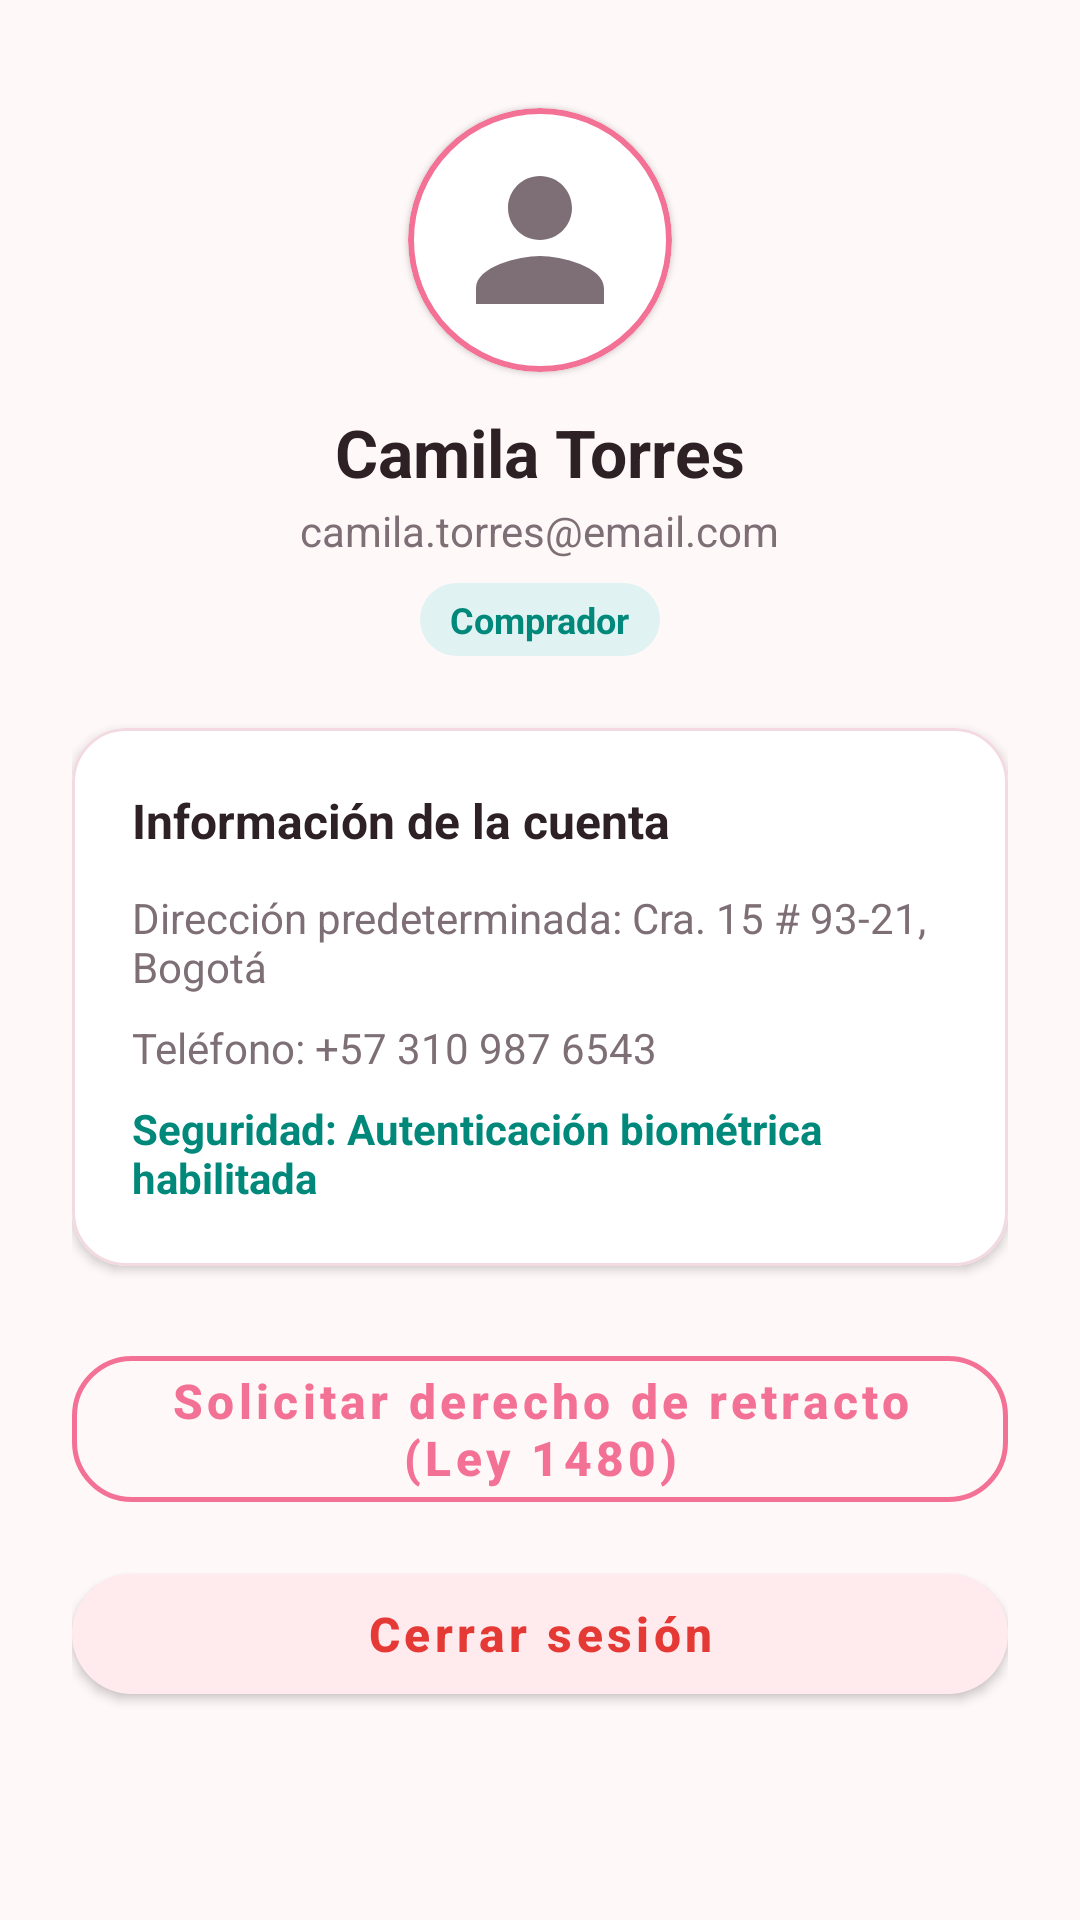

Locate icon controls on the screen. Image size 1080 × 1920, boxes as (x1, y1, x2, y2).
Foto de perfil: (408, 108, 672, 372)
